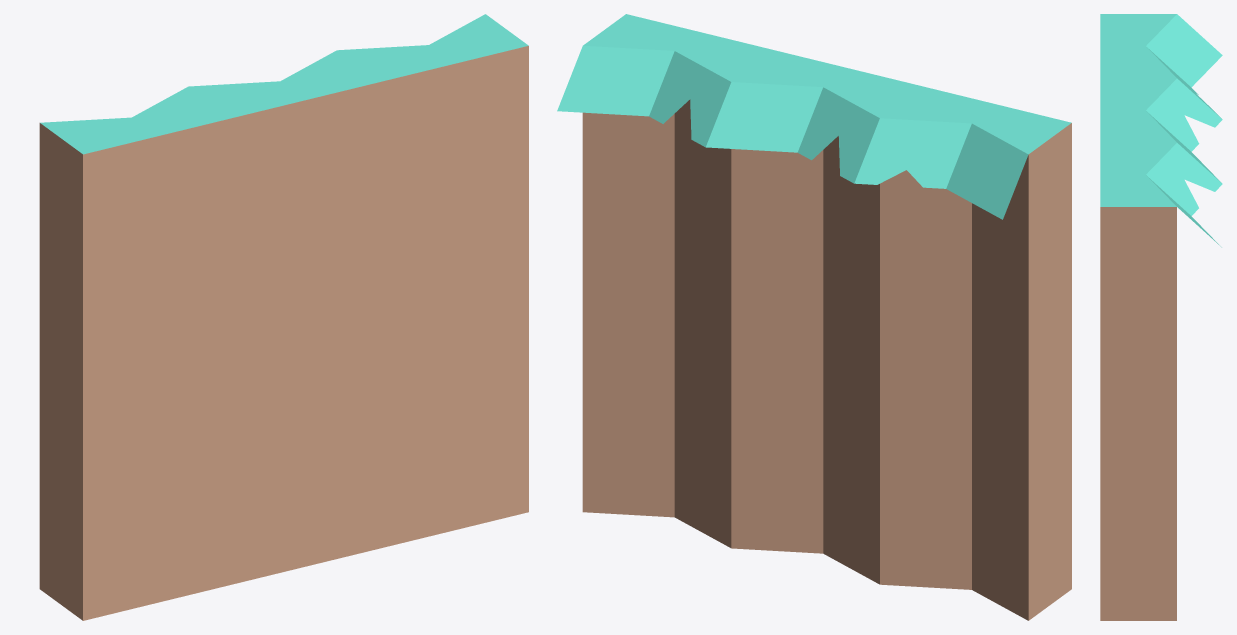
Rendered from cliff-top-rock.glb.
3 renders of one model, left to right at view 1: azimuth 30°, elevation 25°; view 2: azimuth 150°, elevation 25°; view 3: azimuth 270°, elevation 25°, orthographic. The views are drawn at different scales.
Parts seen in each view (by area): view 1: cliff_top_rock; view 2: cliff_top_rock; view 3: cliff_top_rock.
Boxes of the visible parts, left/top/right/bottom form: cliff_top_rock: left=39, top=14, right=528, bottom=620; cliff_top_rock: left=557, top=14, right=1071, bottom=620; cliff_top_rock: left=1100, top=14, right=1222, bottom=620.
Bounding box in the file's own units: 1 × 1 × 0.2685.
